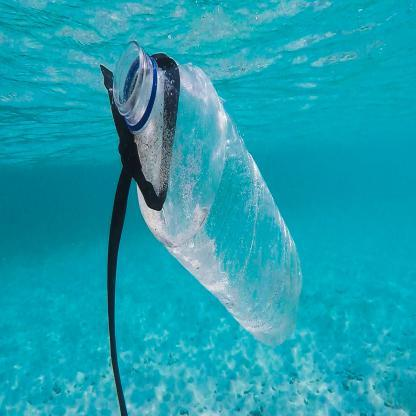Rác: (93, 40, 311, 356)
